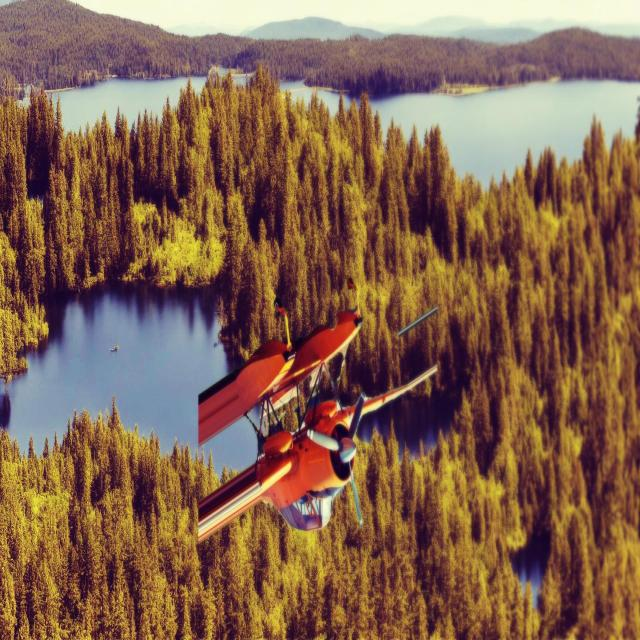airplane: (195, 281, 438, 544)
